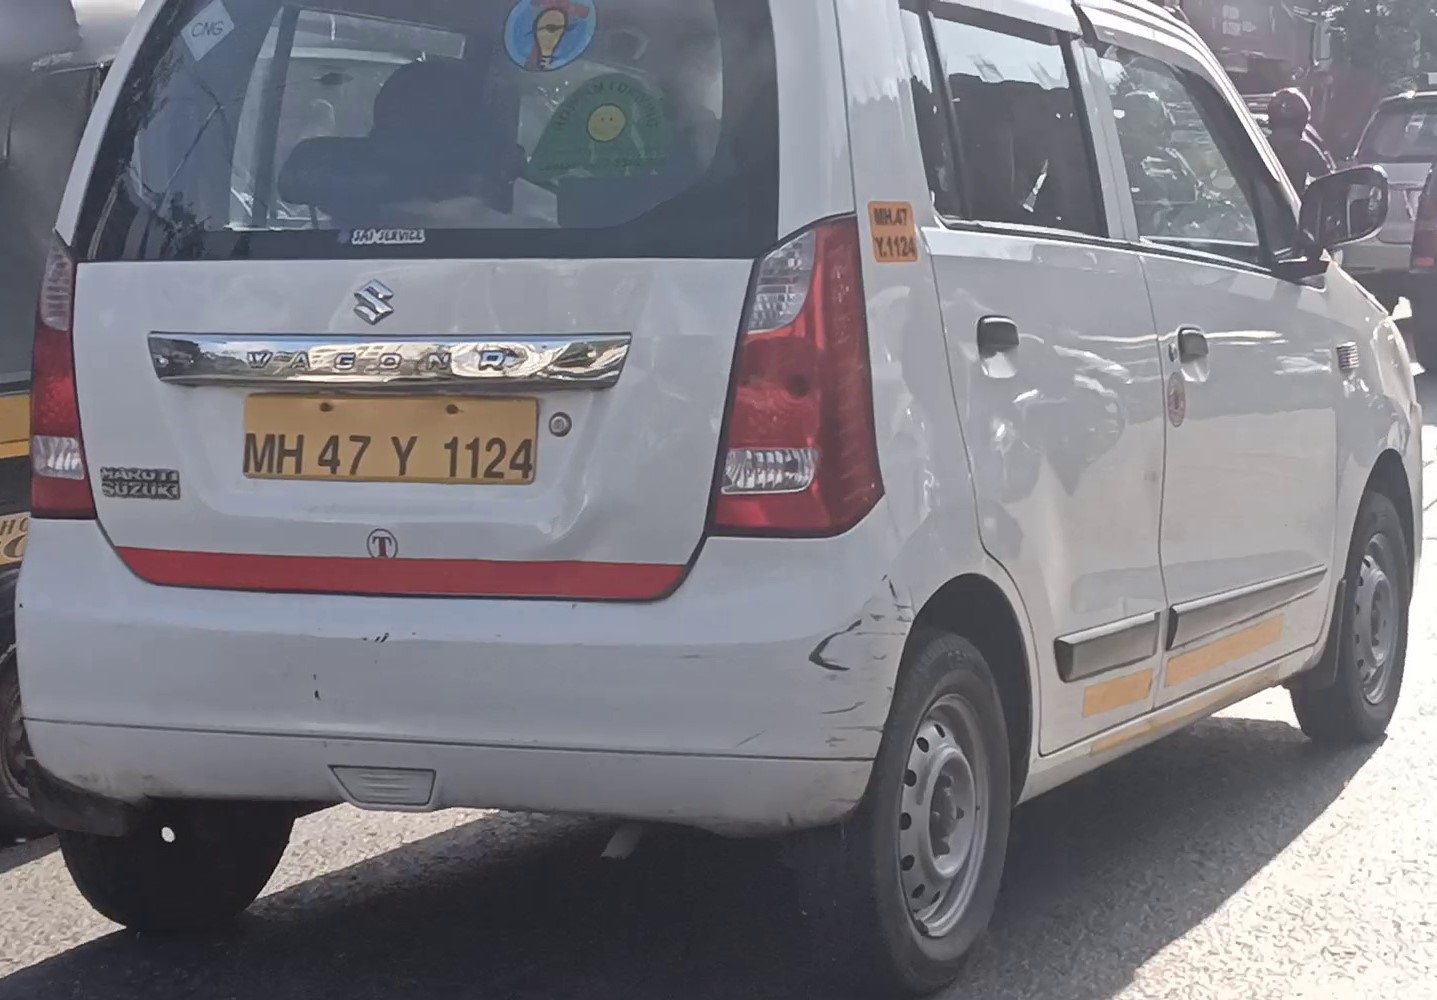MH47Y1124: (245, 398, 541, 488)
